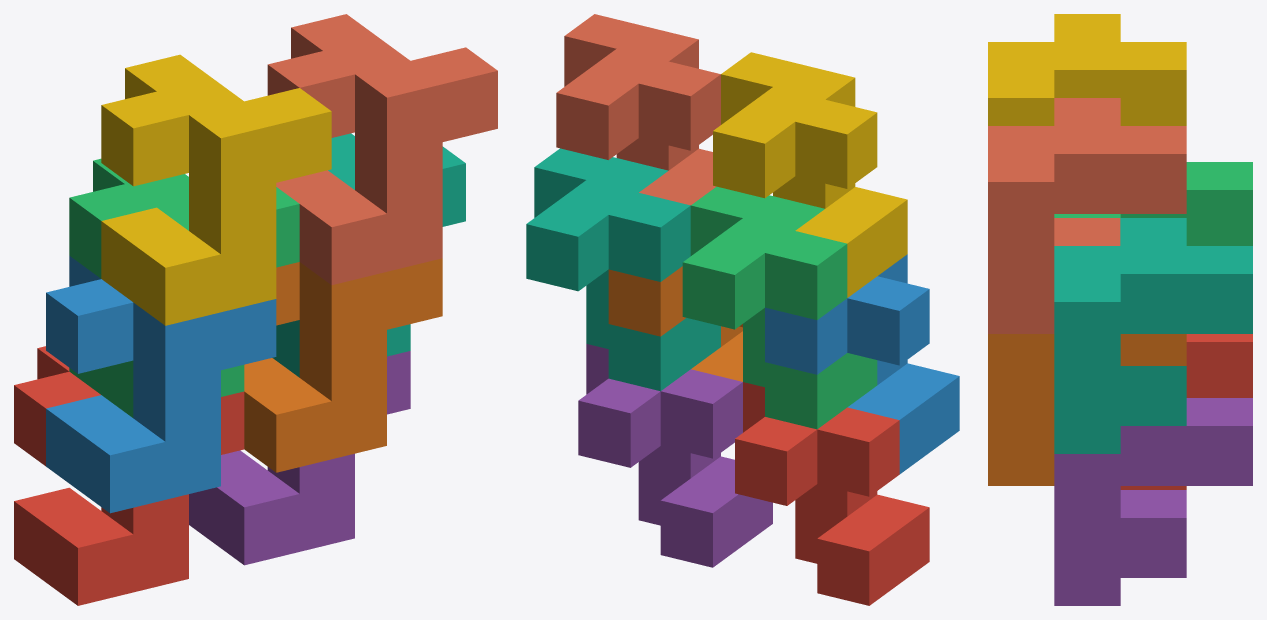
Rendered from tiling.obj.
The picture shows the model from 3 angles, left to right: view 1: azimuth 30°, elevation 25°; view 2: azimuth 150°, elevation 25°; view 3: azimuth 270°, elevation 25°; orthographic projection. The views are drawn at different scales.
Parts seen in each view (by area): view 1: copy_1_domain_4, copy_1_domain_8, copy_1_domain_2, copy_1_domain_6, copy_1_domain_1, copy_1_domain_5, copy_1_domain_3, copy_1_domain_7; view 2: copy_1_domain_4, copy_1_domain_1, copy_1_domain_3, copy_1_domain_7, copy_1_domain_5, copy_1_domain_8, copy_1_domain_2, copy_1_domain_6; view 3: copy_1_domain_7, copy_1_domain_8, copy_1_domain_5, copy_1_domain_4, copy_1_domain_6, copy_1_domain_3, copy_1_domain_1.
Part boxes in pixels (box(x1,y1,x2,y2)): copy_1_domain_4: box(101, 54, 331, 325); copy_1_domain_8: box(267, 14, 497, 285); copy_1_domain_2: box(46, 256, 276, 513); copy_1_domain_6: box(244, 258, 442, 472); copy_1_domain_1: box(14, 346, 244, 605); copy_1_domain_5: box(189, 351, 410, 565); copy_1_domain_3: box(69, 158, 299, 417); copy_1_domain_7: box(272, 133, 465, 377); copy_1_domain_4: box(713, 52, 907, 297); copy_1_domain_1: box(735, 382, 929, 605); copy_1_domain_3: box(682, 186, 877, 429); copy_1_domain_7: box(526, 148, 720, 391); copy_1_domain_5: box(578, 344, 772, 567); copy_1_domain_8: box(556, 14, 720, 205); copy_1_domain_2: box(765, 254, 959, 474); copy_1_domain_6: box(608, 266, 742, 381); copy_1_domain_7: box(1054, 218, 1252, 453); copy_1_domain_8: box(988, 98, 1186, 333); copy_1_domain_5: box(1054, 398, 1252, 605); copy_1_domain_4: box(988, 14, 1186, 125); copy_1_domain_6: box(988, 334, 1186, 485); copy_1_domain_3: box(1054, 162, 1252, 245); copy_1_domain_1: box(1120, 334, 1252, 489).
Size of the model in its own units: 7 by 8 by 4.
